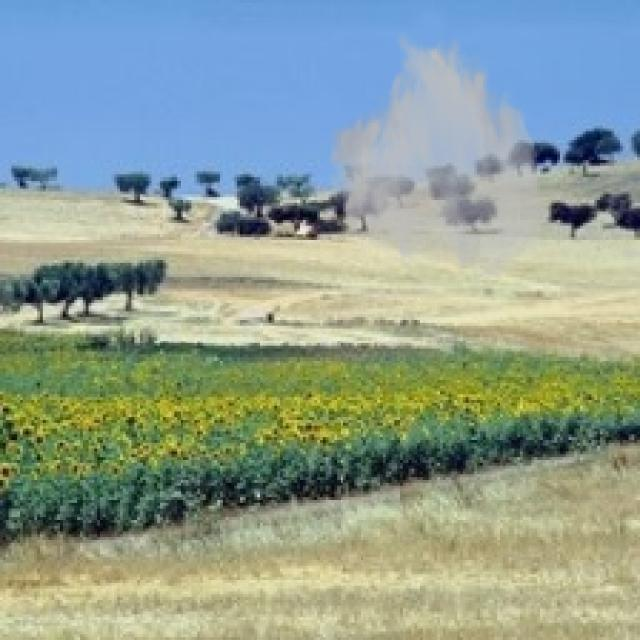Smoke: (326, 28, 548, 286)
